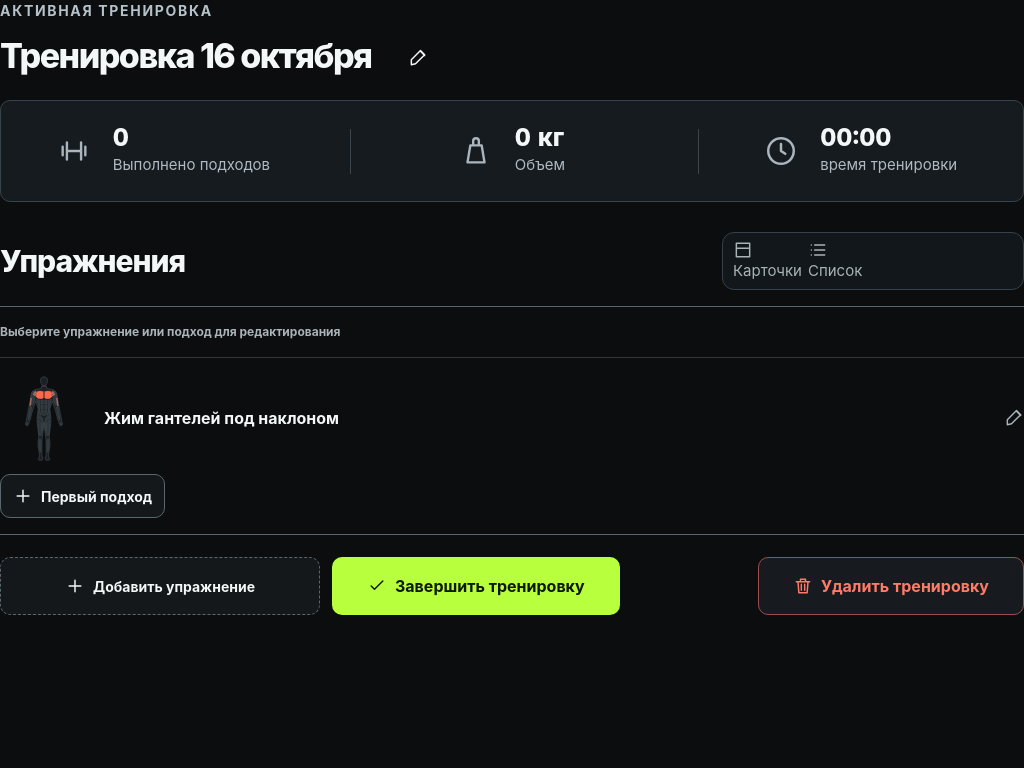
Test case: active workout › keeps an exercise without sets after reloading and opens its editor in list mode
Click the button with aria-label "Редактировать упражнение Жим гантелей под наклоном" at (222, 418), box [104, 396, 1023, 440]
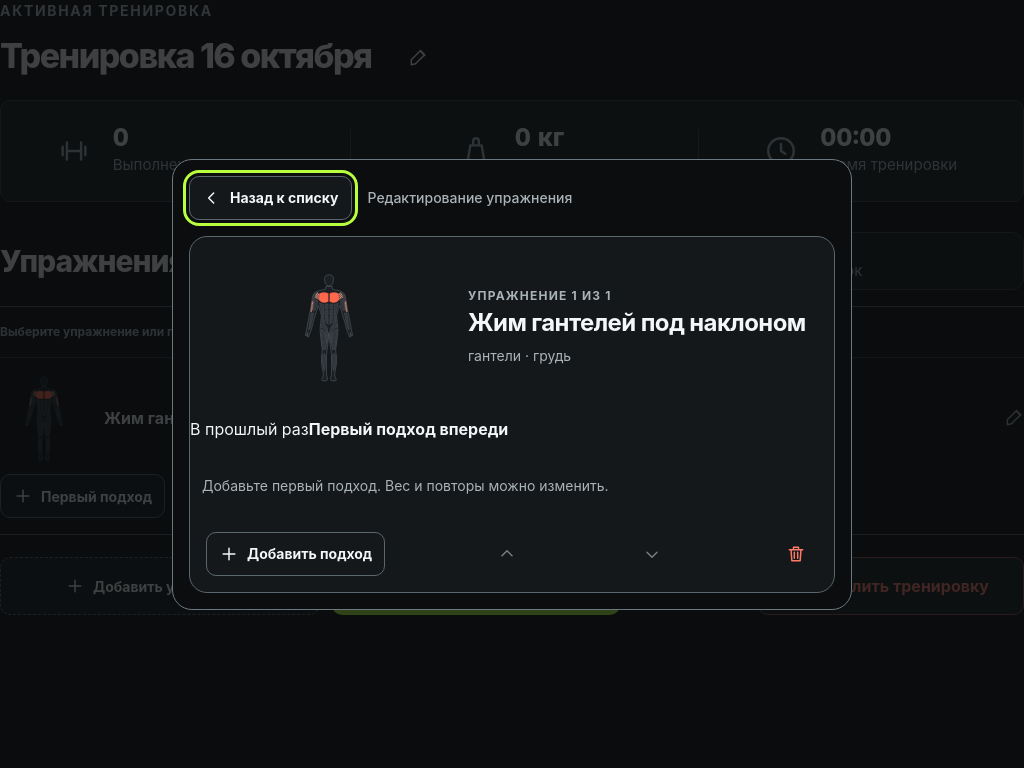
Click the button "Добавить подход" at (296, 554), box [206, 532, 385, 576]
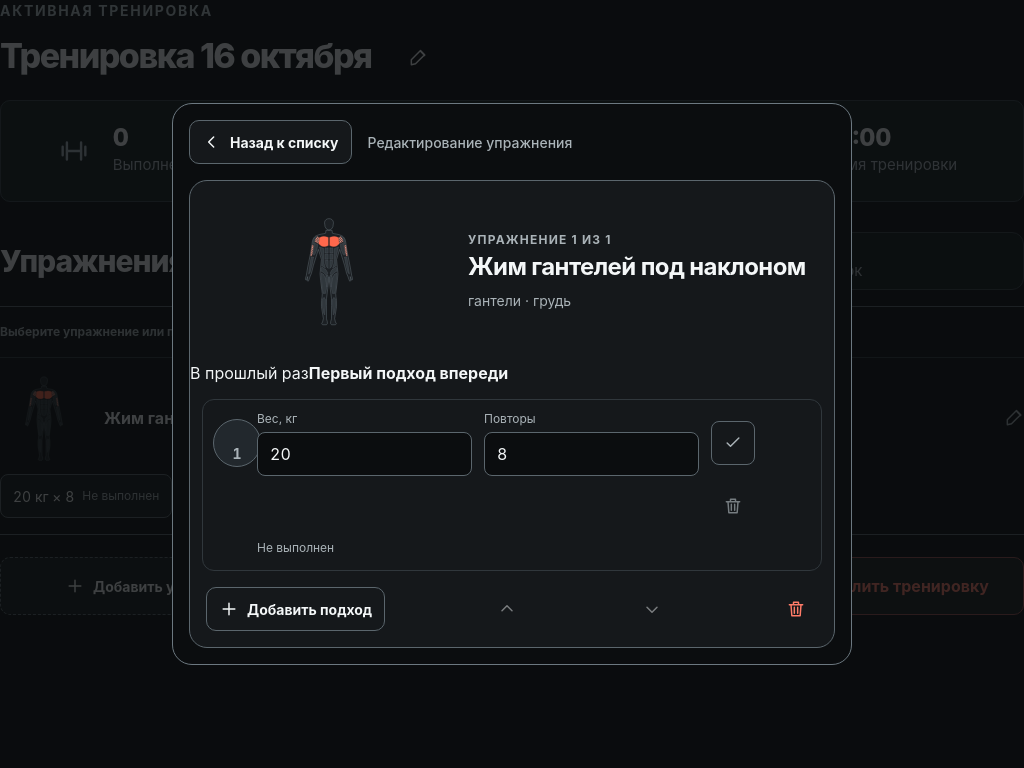
Expected: the field named "Вес, подход 1" is shown, [257, 432, 472, 476]
